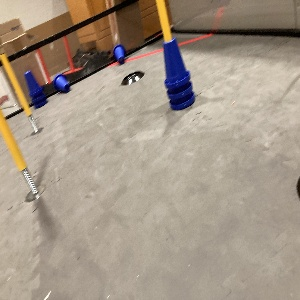Blue_1: (52, 73, 72, 92), (112, 46, 127, 66)
Blue_3: (159, 38, 195, 109), (21, 69, 48, 108)
